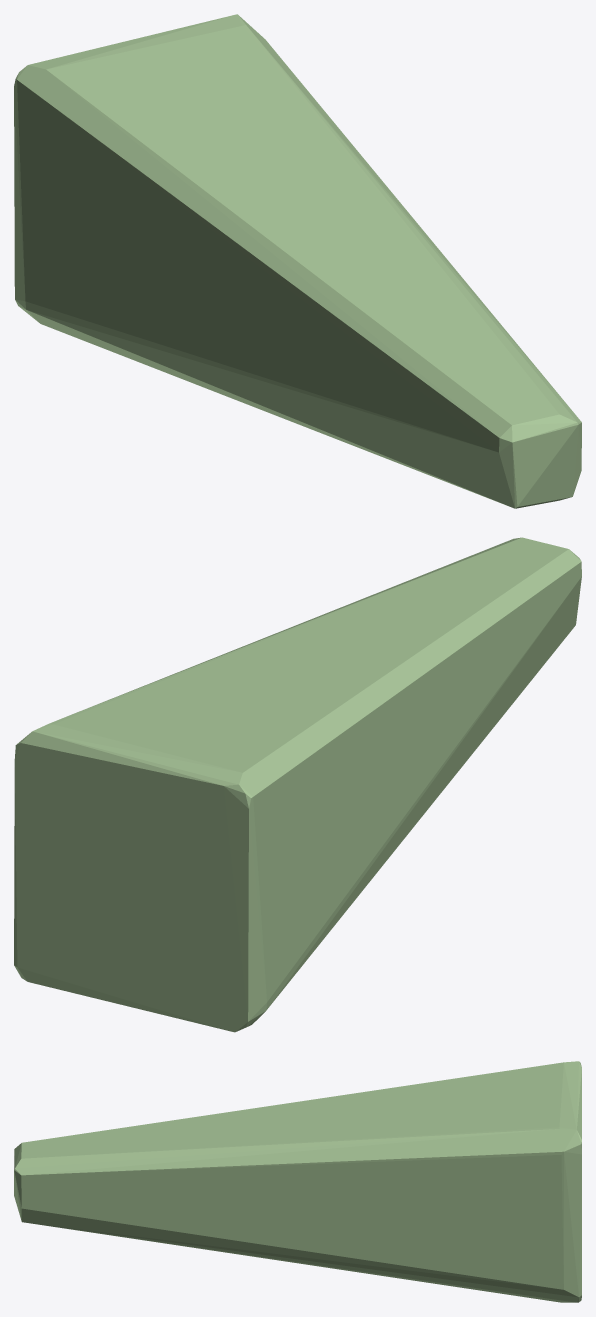
File: sign_wetFloor_a02.glb
3 renders of one model, top to bottom at view 1: azimuth 30°, elevation 25°; view 2: azimuth 150°, elevation 25°; view 3: azimuth 270°, elevation 25°, orthographic. The views are drawn at different scales.
Visible parts, largest first — view 1: geometry_0; view 2: geometry_0; view 3: geometry_0.
Part boxes in pixels (<box>): geometry_0: <box>14,14,581,508</box>; geometry_0: <box>14,537,581,1032</box>; geometry_0: <box>14,1061,581,1302</box>.
Bounding box in the file's own units: 0.1617 × 0.1617 × 0.48.
